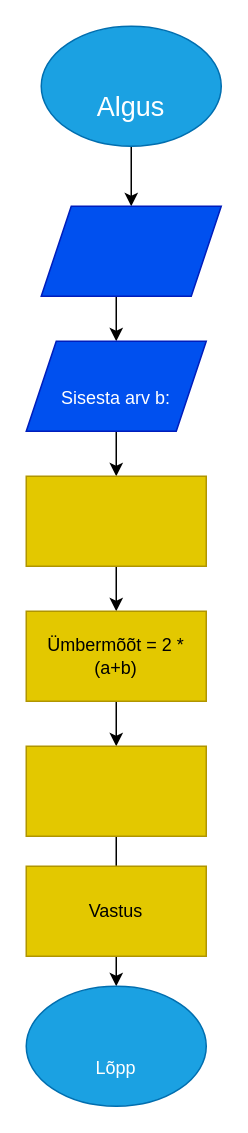
The diagram is 248 pixels wide and 1133 high, and some of its shapes have lost their labels. The shapes that lost their labels are listed below. From the top down, each one's box as (x1, y1, x2, y2) in pixels, then its label:
(40, 205, 221, 296): Sisesta arv a:
(25, 475, 206, 566): Pindala = ab
(25, 745, 206, 836): deagoonal = q = √(a 2 + b 2 )
